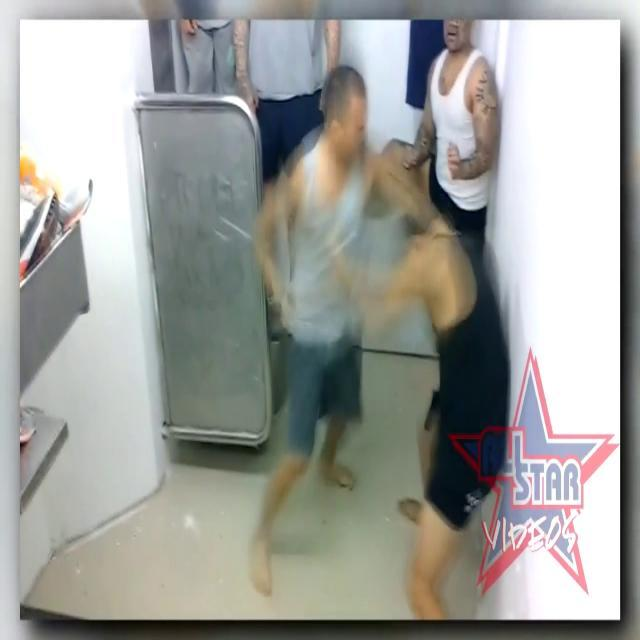violence: (258, 60, 484, 604)
